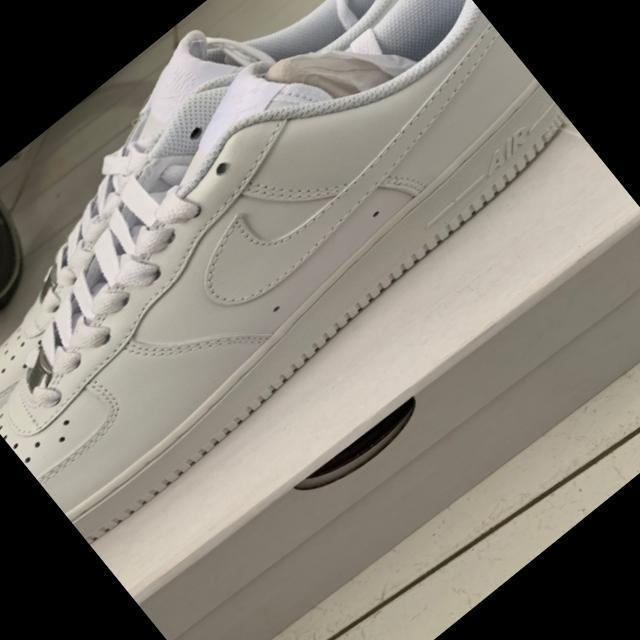nike original air force: (0, 0, 591, 549), (0, 0, 500, 435)
